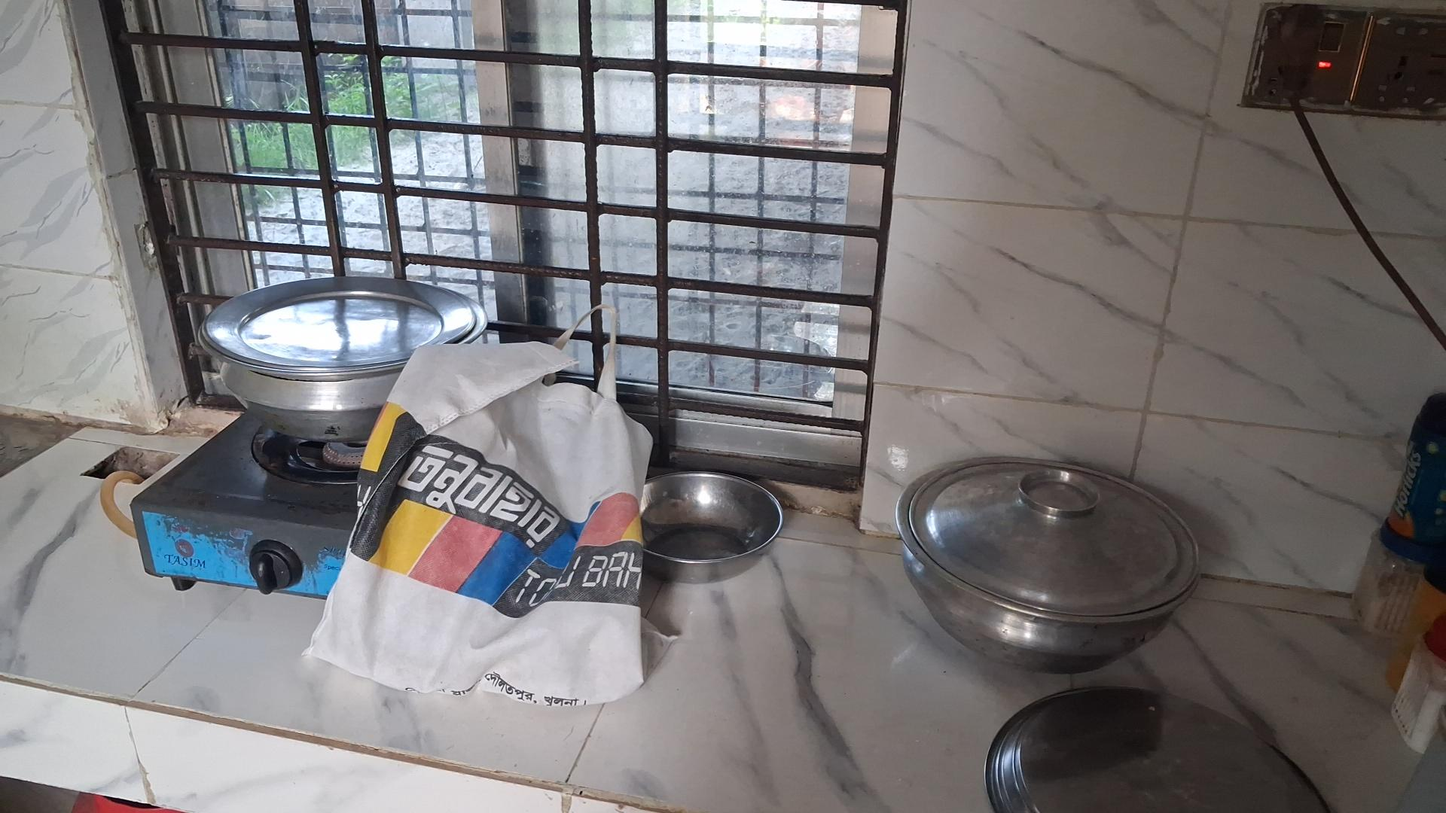Bag: (305, 335, 647, 702)
Bowl: (639, 471, 784, 584)
Plate: (983, 684, 1328, 813)
Pot: (903, 453, 1208, 669), (201, 273, 485, 445)
